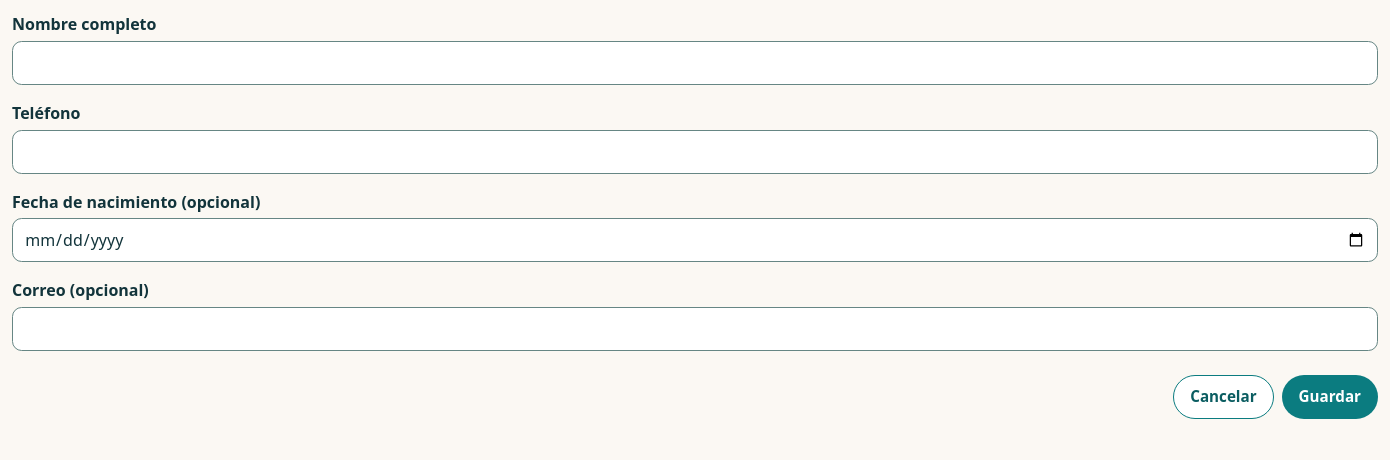
Test: PatientForm › rechaza correos mal escritos
This screenshot has width=1390, height=460.
Type "Ana Pérez" into the field labelled "Nombre completo". click: (695, 63)
box: [12,41,1378,85]
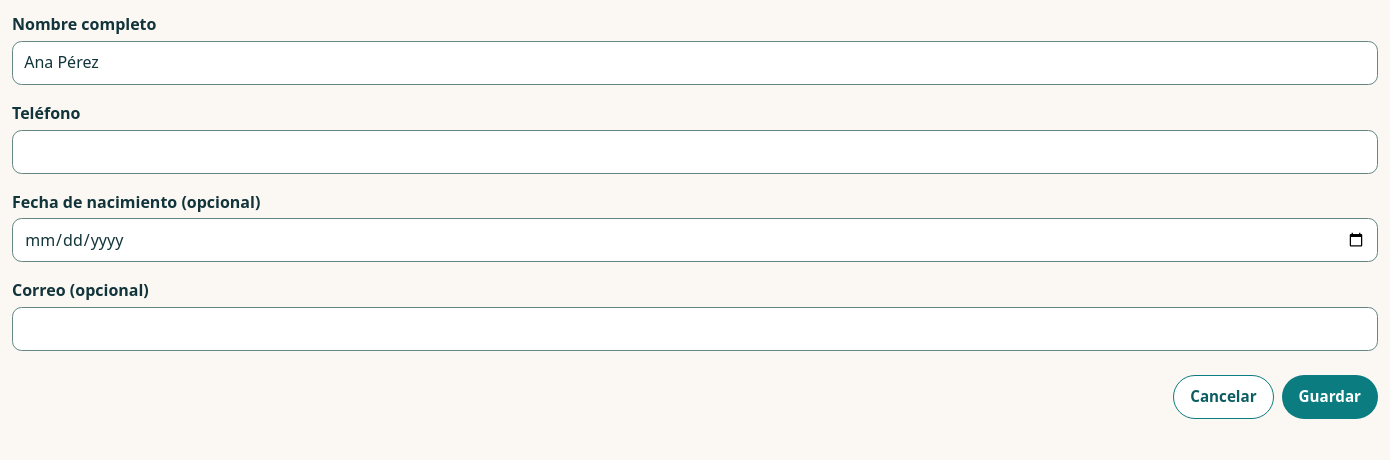
Type "71234567" into the field labelled "Teléfono". click: (695, 152)
box: [12,130,1378,174]
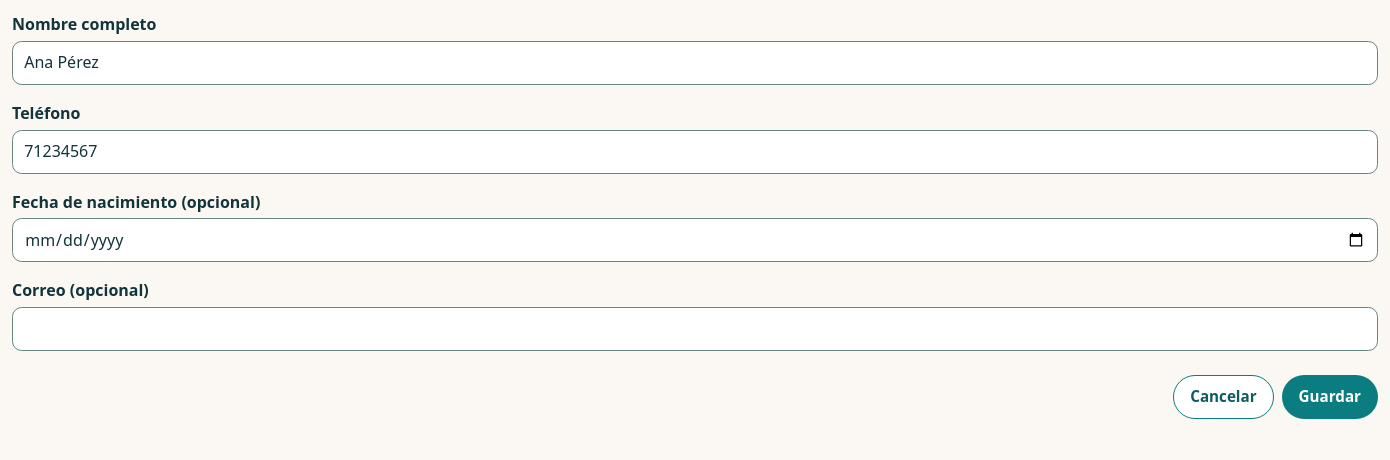
Type "no-es-correo" into the field labelled "Correo (opcional)". click: (695, 329)
box: [12,307,1378,351]
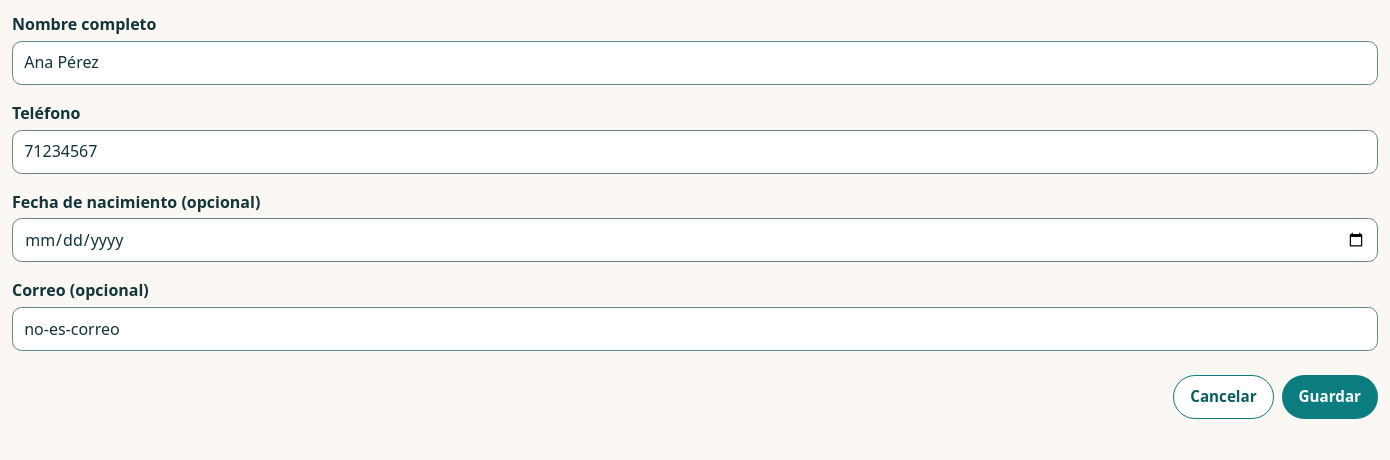
Click the button "Guardar". click: (1330, 397)
box: [1282,375,1378,419]
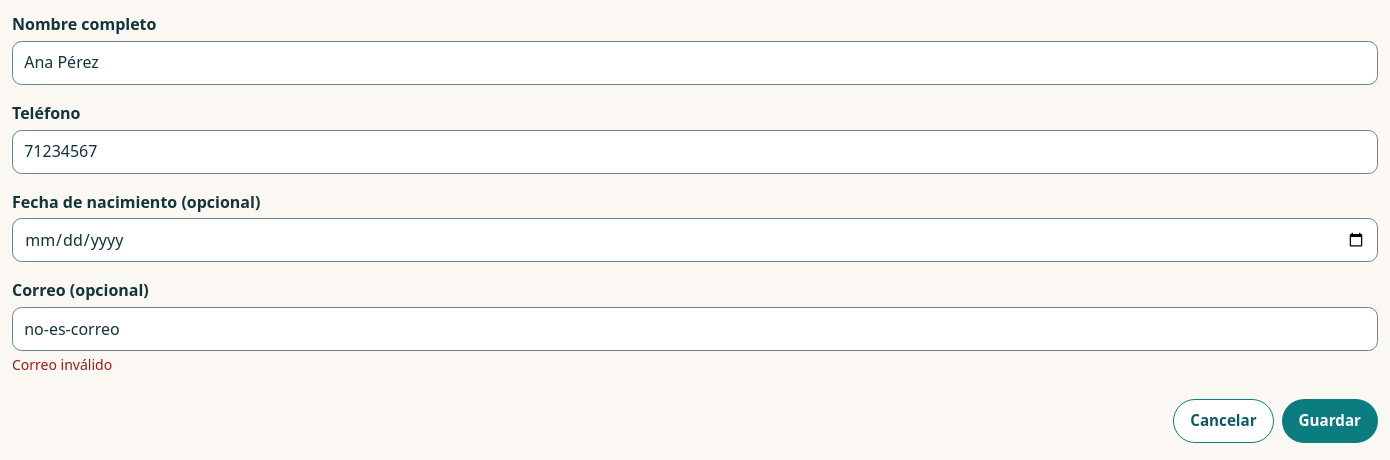
Check: the message reads "Correo inválido", box [12,355,112,374]
